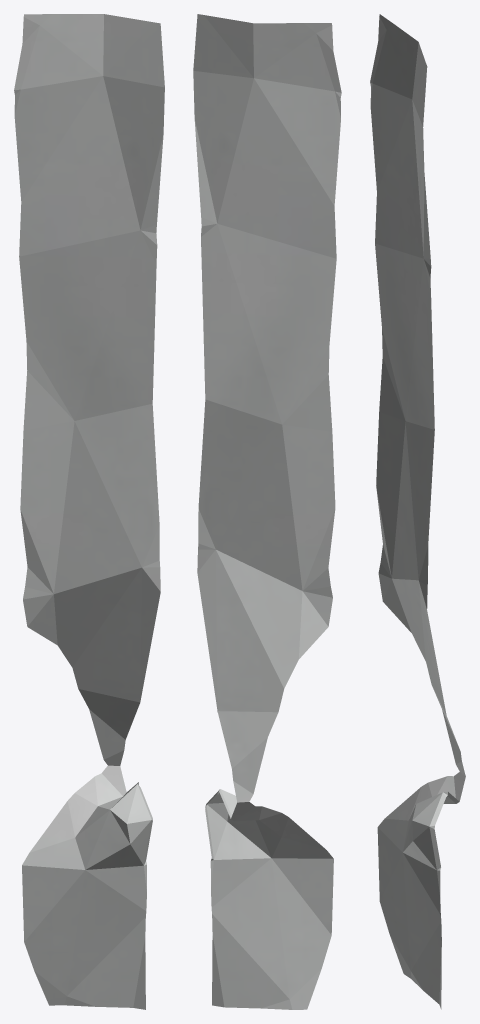
3 renders of one model, left to right at view 1: azimuth 30°, elevation 25°; view 2: azimuth 210°, elevation 25°; view 3: azimuth 330°, elevation 25°, orthographic. The views are drawn at different scales.
Bounding box in the file's own units: 0.0907 × 0.8373 × 0.0727.
1 material, 1 textured.
